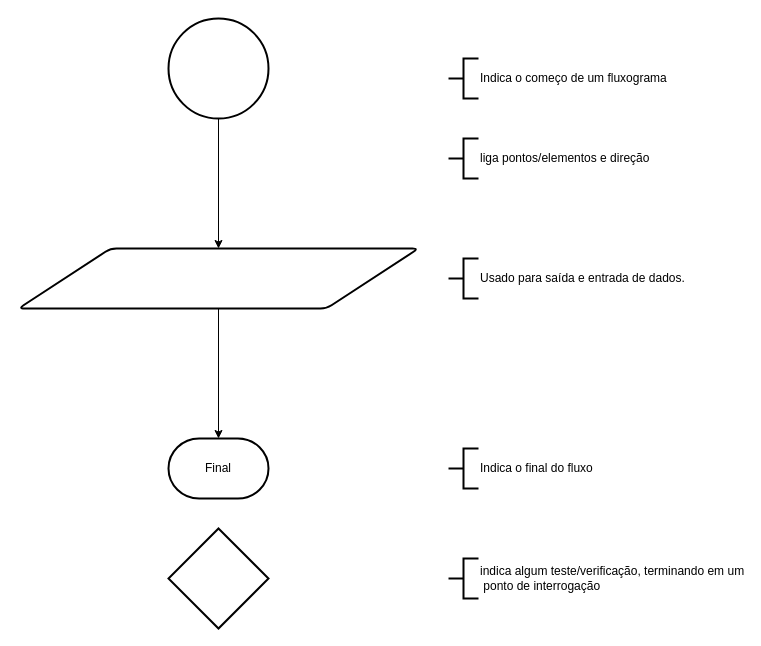
The diagram is 761 pixels wide and 646 high, and some of its shapes have lost their labels. Here are the shapes that lost their labels. From the top down, the box of each, then its label:
(17, 247, 419, 309): "Bem vindo, isso foi escrito a partir de JavaScript"
(167, 527, 269, 629): ePar?
